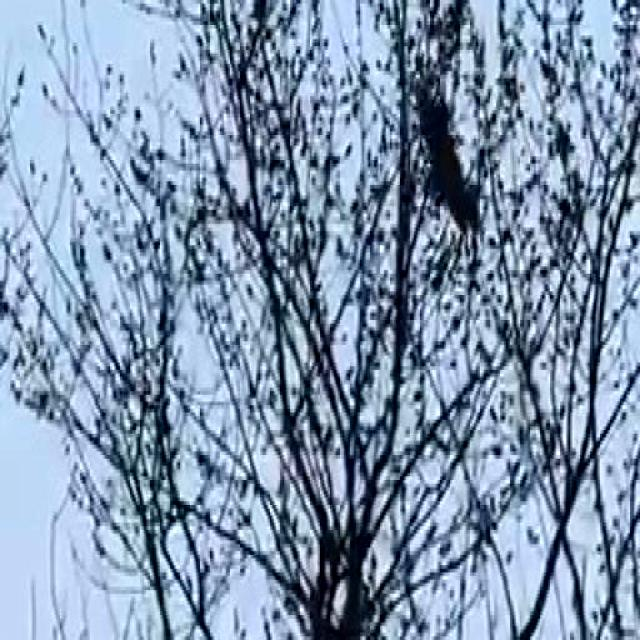airplane: (408, 81, 496, 251)
